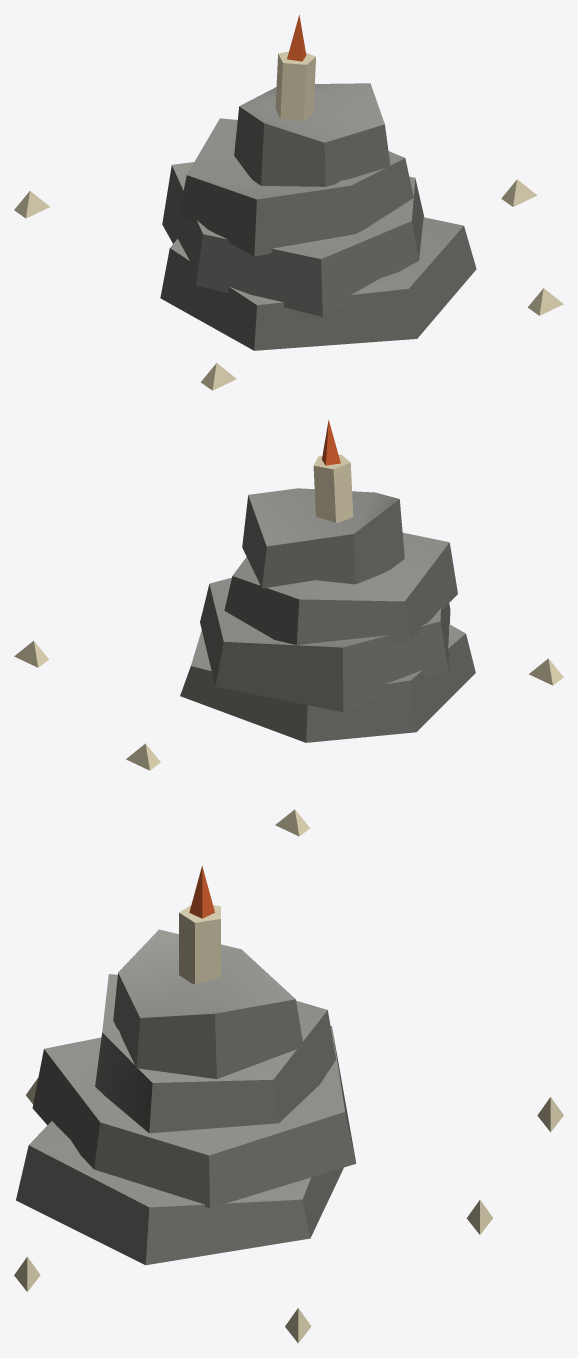
Rendered from Offering.fbx.
3 views of the same model, one above another, from view 1: azimuth 30°, elevation 25°; view 2: azimuth 150°, elevation 25°; view 3: azimuth 270°, elevation 25° (orthographic). The views are drawn at different scales.
Parts seen in each view (by area): view 1: Offering; view 2: Offering; view 3: Offering.
Part boxes in pixels (x1=…): Offering: x1=14, y1=15, x2=563, y2=390; Offering: x1=14, y1=420, x2=563, y2=836; Offering: x1=14, y1=866, x2=563, y2=1343.
Bounding box in the file's own units: 0.7641 × 0.4607 × 0.7145.
